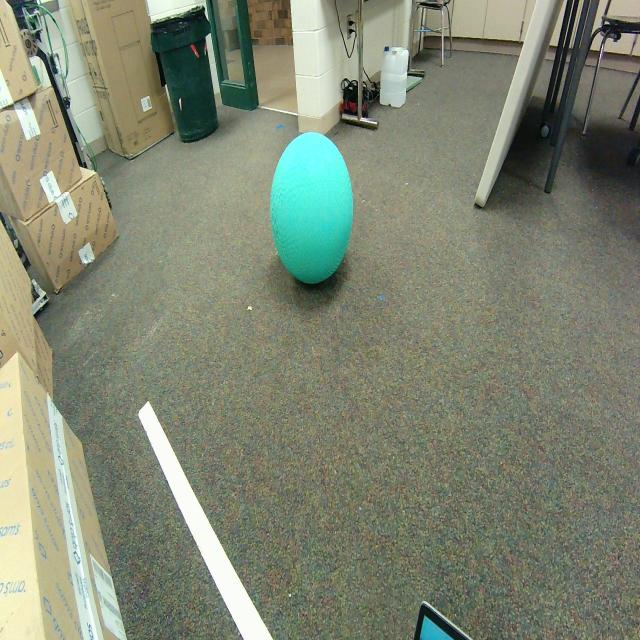algae: (270, 132, 353, 285)
